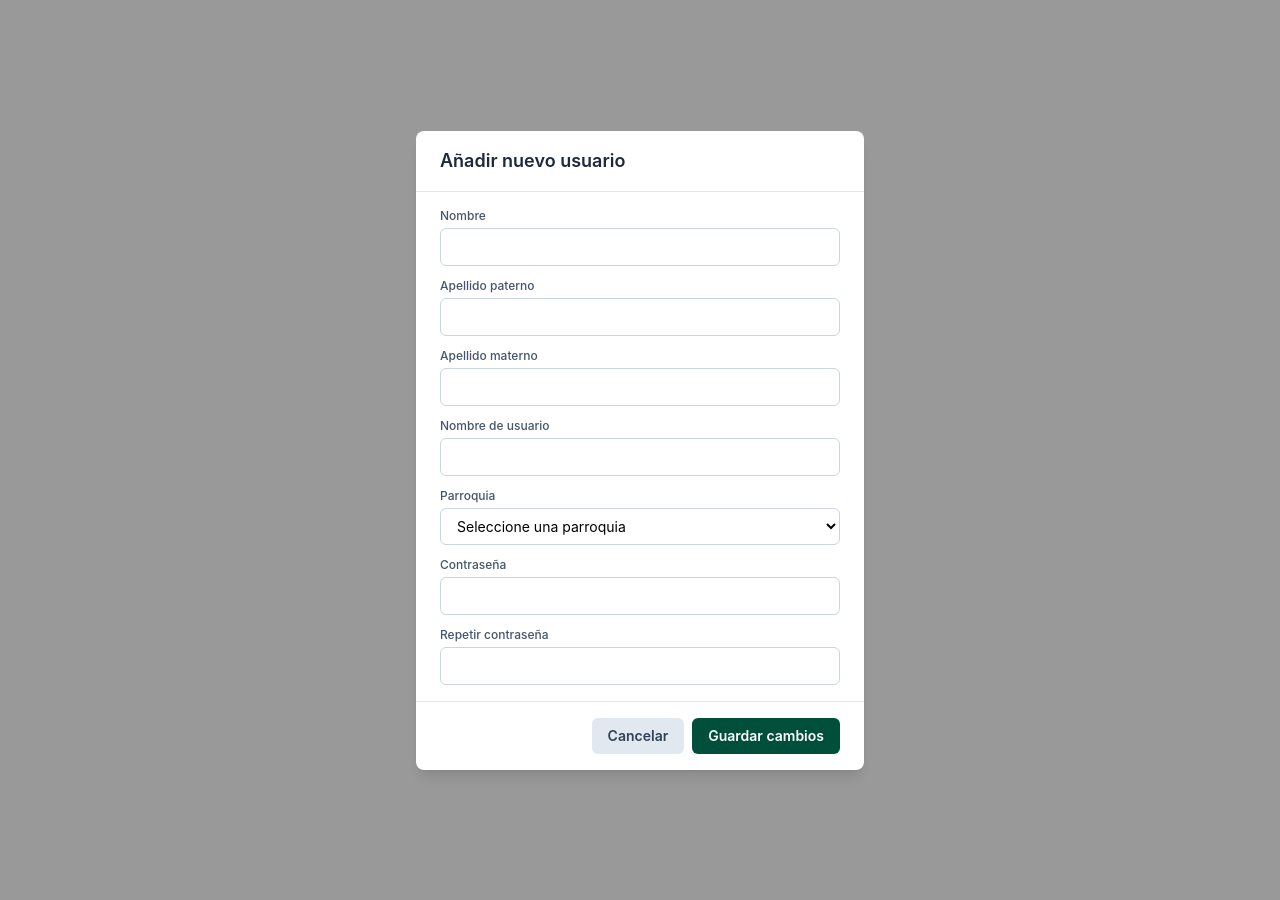
Scenario: UserFormModal › modo alta › no muestra el campo de parroquia nueva hasta elegir esa opción
The width and height of the screenshot is (1280, 900).
Expected: the field labelled "Nombre de la parroquia nueva" is not shown
Step 1. Select "+ Crear parroquia nueva…" in the dropdown labelled "Parroquia" → (640, 526), box [440,508,840,544]
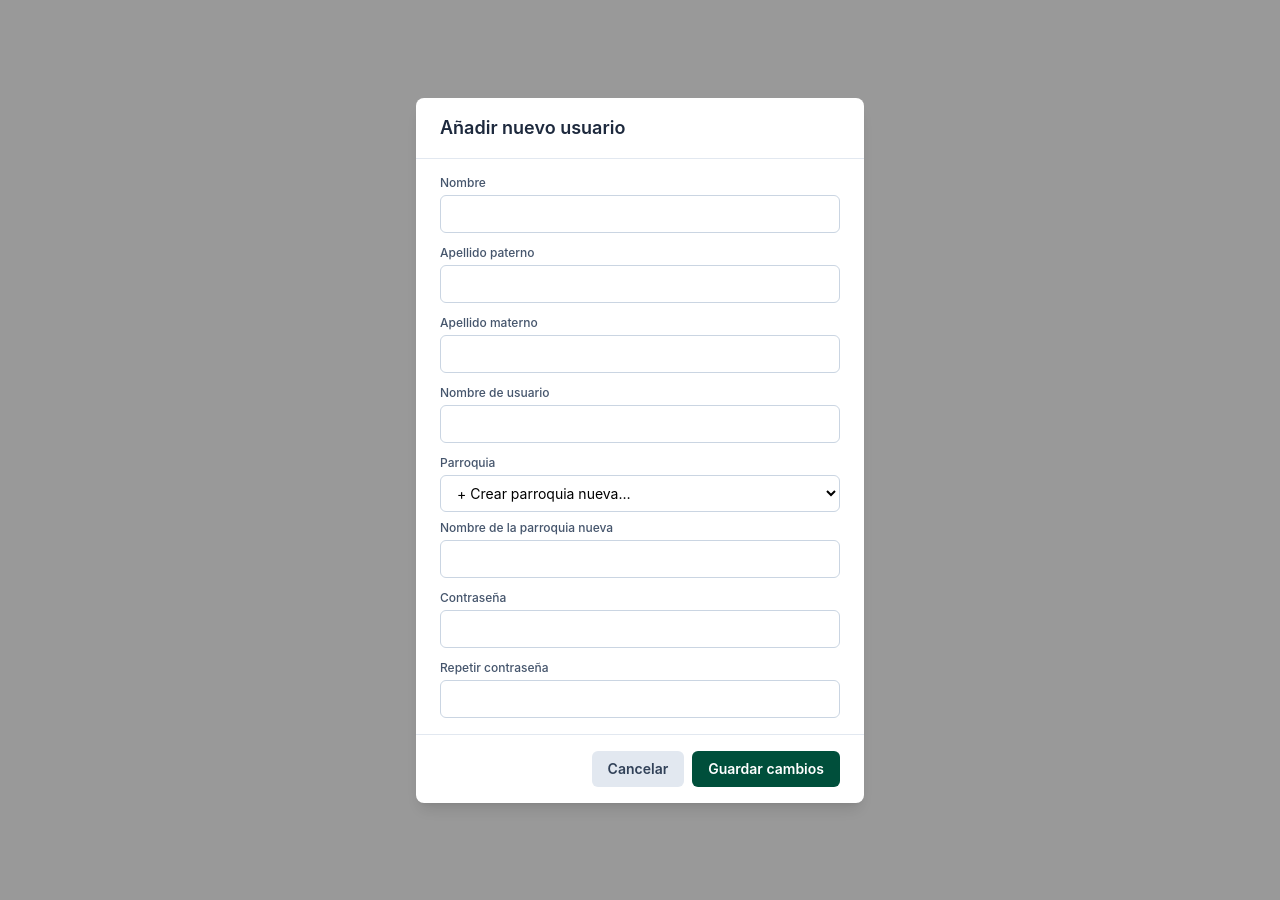
Expected: the field labelled "Nombre de la parroquia nueva" is shown, [440,540,840,578]
